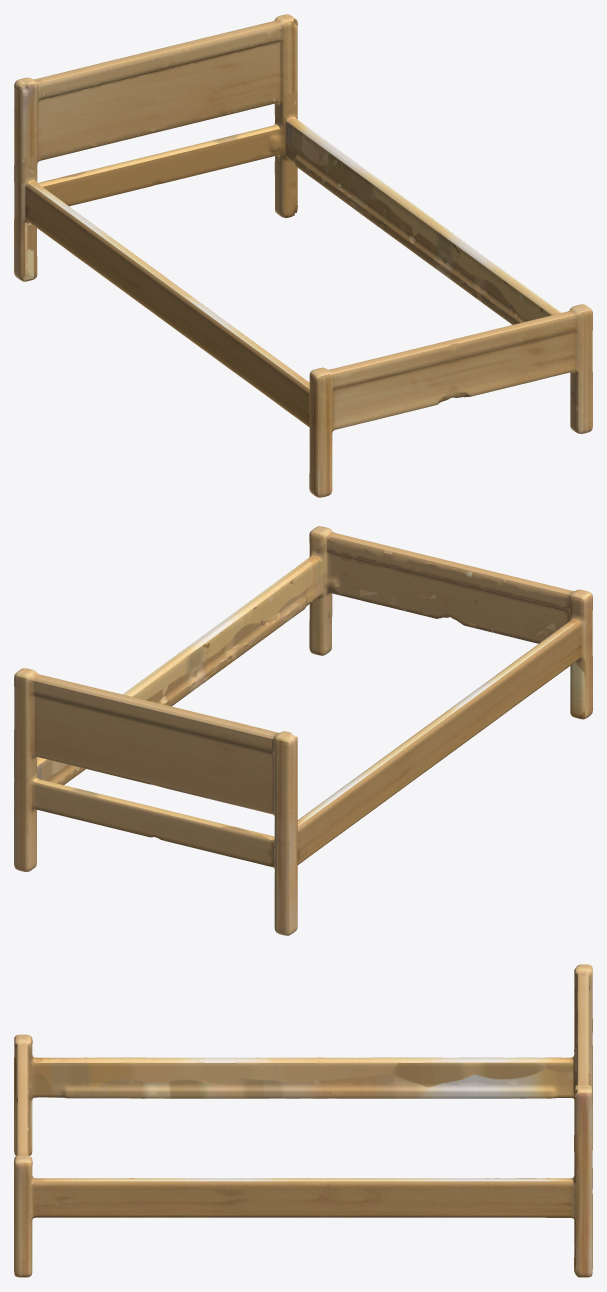
File: bed__bed#5.glb
The picture shows the model from 3 angles, top to bottom: view 1: azimuth 30°, elevation 25°; view 2: azimuth 150°, elevation 25°; view 3: azimuth 270°, elevation 25°; orthographic projection. The views are drawn at different scales.
Visible parts, largest first — view 1: tmp2iwsgwgb.ply; view 2: tmp2iwsgwgb.ply; view 3: tmp2iwsgwgb.ply.
Boxes of the visible parts, <box> form: tmp2iwsgwgb.ply: <box>14,14,592,497</box>; tmp2iwsgwgb.ply: <box>14,526,592,935</box>; tmp2iwsgwgb.ply: <box>14,964,592,1277</box>.
Size of the model in its own units: 1.05 by 0.713 by 1.99.
Materials: 1 (1 with a texture image).
